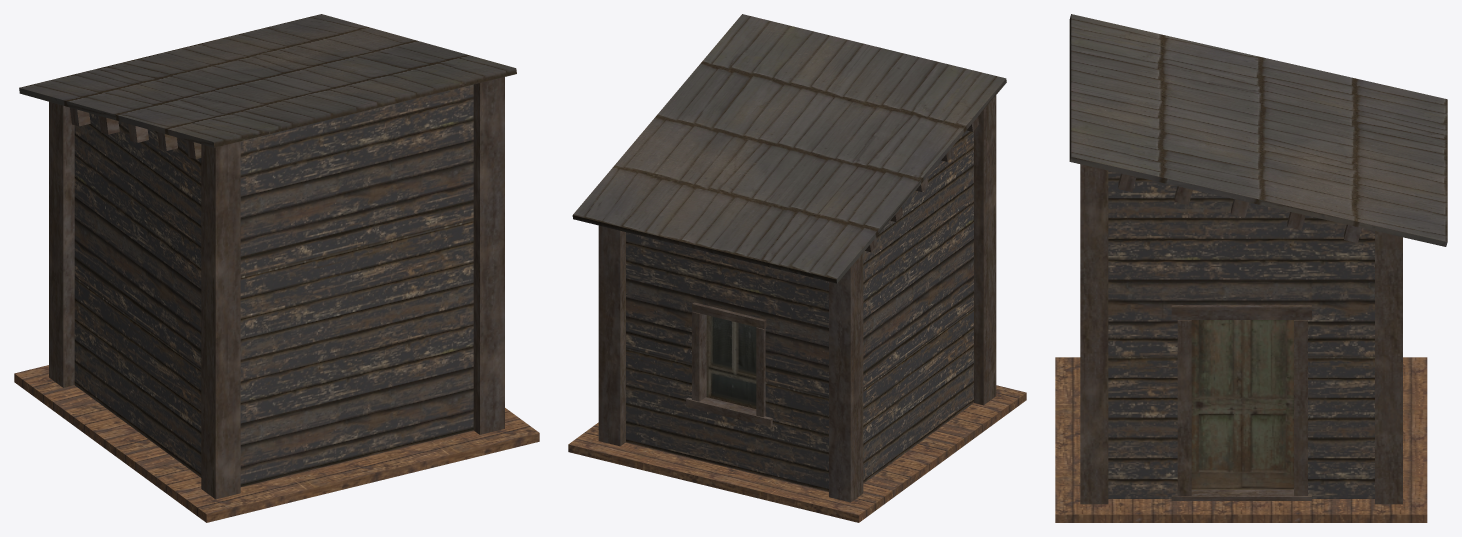
The model's file is Cabin.gltf.
3 renders of one model, left to right at view 1: azimuth 30°, elevation 25°; view 2: azimuth 150°, elevation 25°; view 3: azimuth 270°, elevation 25°, orthographic. The views are drawn at different scales.
Parts seen in each view (by area): view 1: Material-material; view 2: Material-material; view 3: Material-material.
Part boxes in pixels (x1,y1,x2,y2): Material-material: (14, 14, 539, 522); Material-material: (568, 14, 1026, 522); Material-material: (1055, 14, 1447, 522).
Bounding box in the file's own units: 3.68 × 3.91 × 3.88.
Materials: 1 (1 with a texture image).
